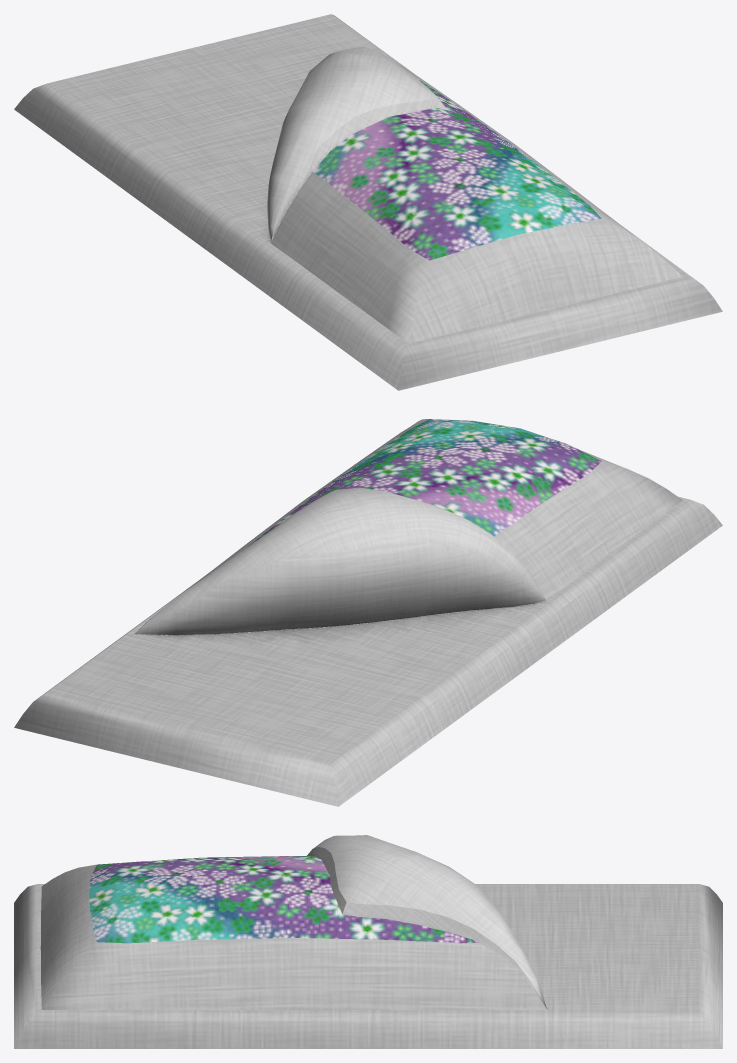
File: huton_02.fbx
The picture shows the model from 3 angles, top to bottom: view 1: azimuth 30°, elevation 25°; view 2: azimuth 150°, elevation 25°; view 3: azimuth 270°, elevation 25°; orthographic projection. The views are drawn at different scales.
Parts seen in each view (by area): view 1: huton_bottom, huton_top, huton_folded; view 2: huton_bottom, huton_folded, huton_top; view 3: huton_top, huton_bottom, huton_folded.
Boxes of the visible parts, <box> form: huton_bottom: <box>14,14,722,390</box>; huton_top: <box>271,63,682,343</box>; huton_folded: <box>267,46,445,242</box>; huton_bottom: <box>14,496,722,806</box>; huton_folded: <box>134,488,545,635</box>; huton_top: <box>139,419,682,629</box>; huton_top: <box>40,856,546,1009</box>; huton_bottom: <box>14,884,722,1048</box>; huton_folded: <box>307,835,546,1008</box>.
Bounding box in the file's own units: 47.86 × 98.21 × 18.88.
Materials: 1 (1 with a texture image).
